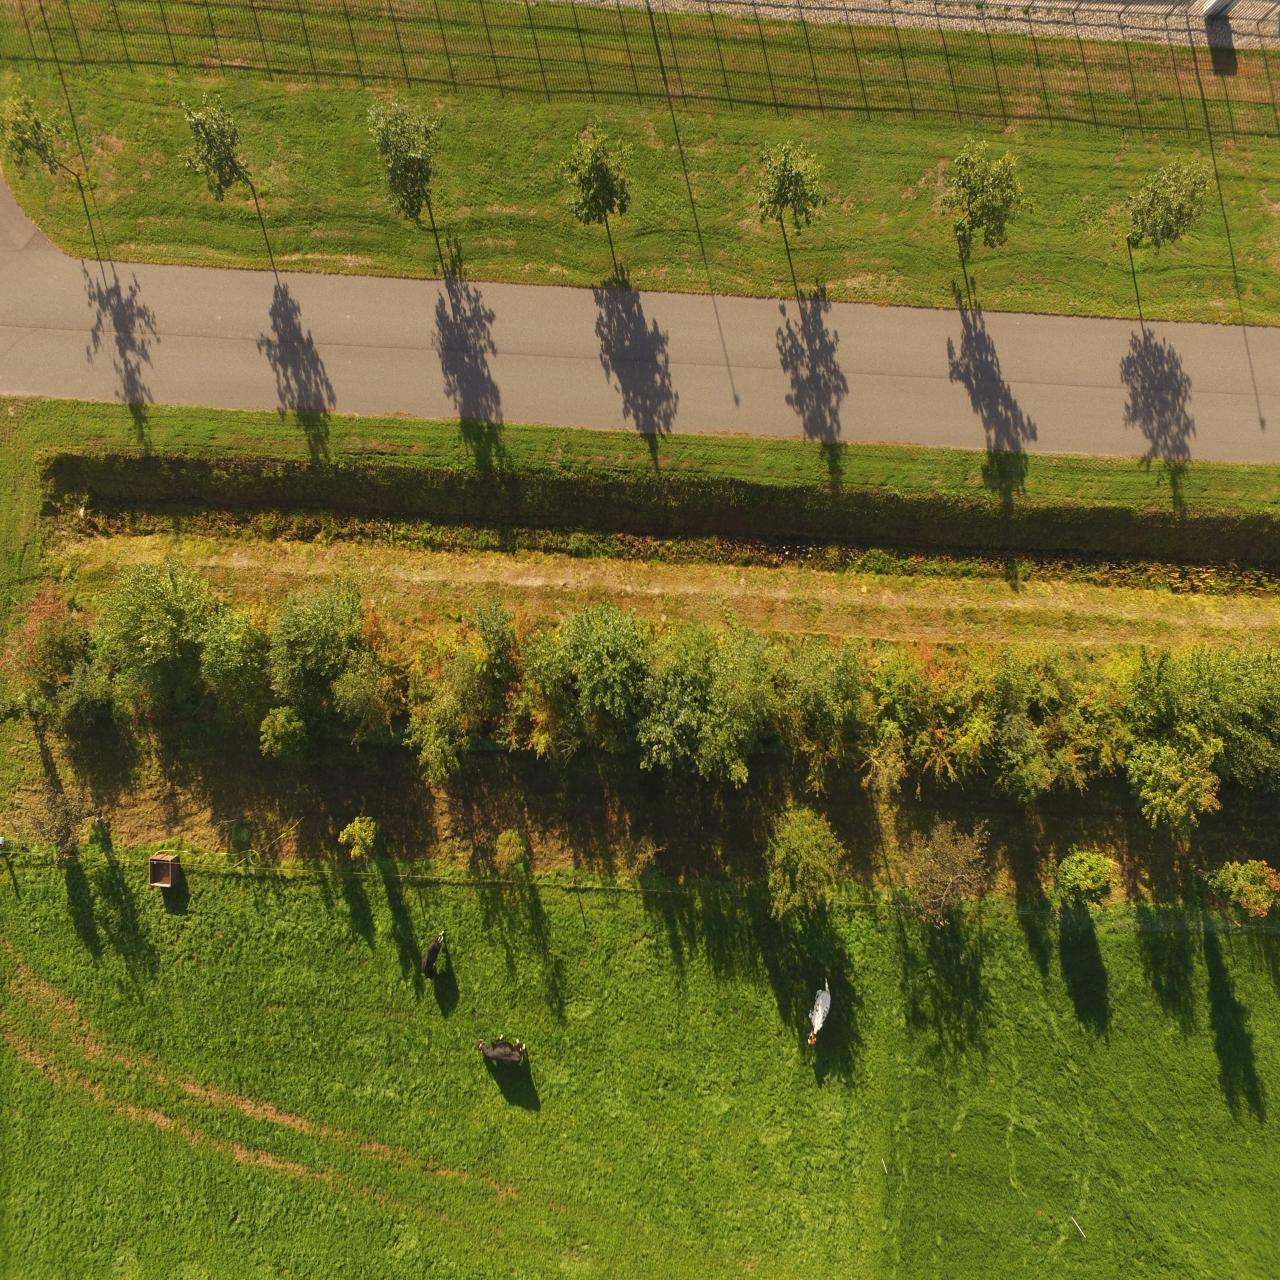cow: (802, 973, 837, 1060), (476, 1033, 533, 1076), (416, 927, 449, 981)
